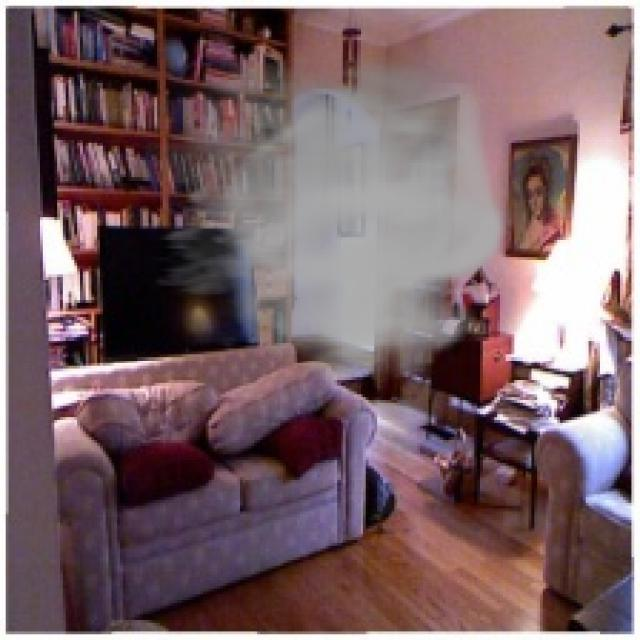smoke: (117, 37, 512, 383)
